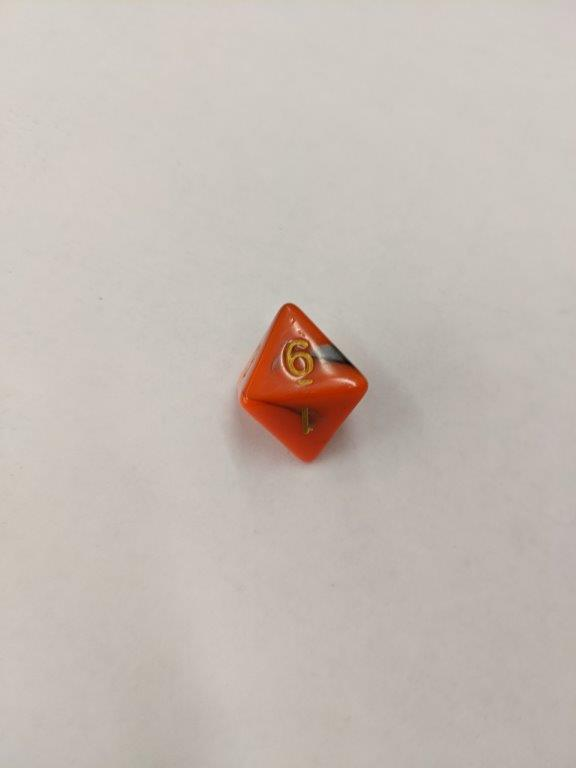d8-6: (229, 299, 373, 470)
